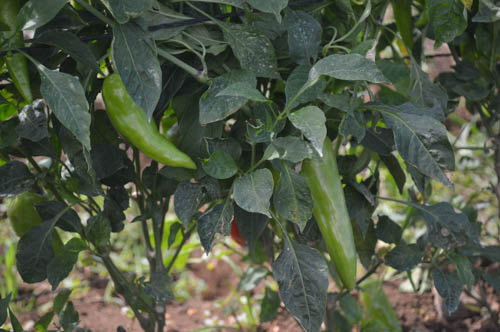ChiliPepper: (102, 77, 198, 170), (305, 144, 362, 289), (1, 16, 39, 103), (11, 197, 59, 256)
